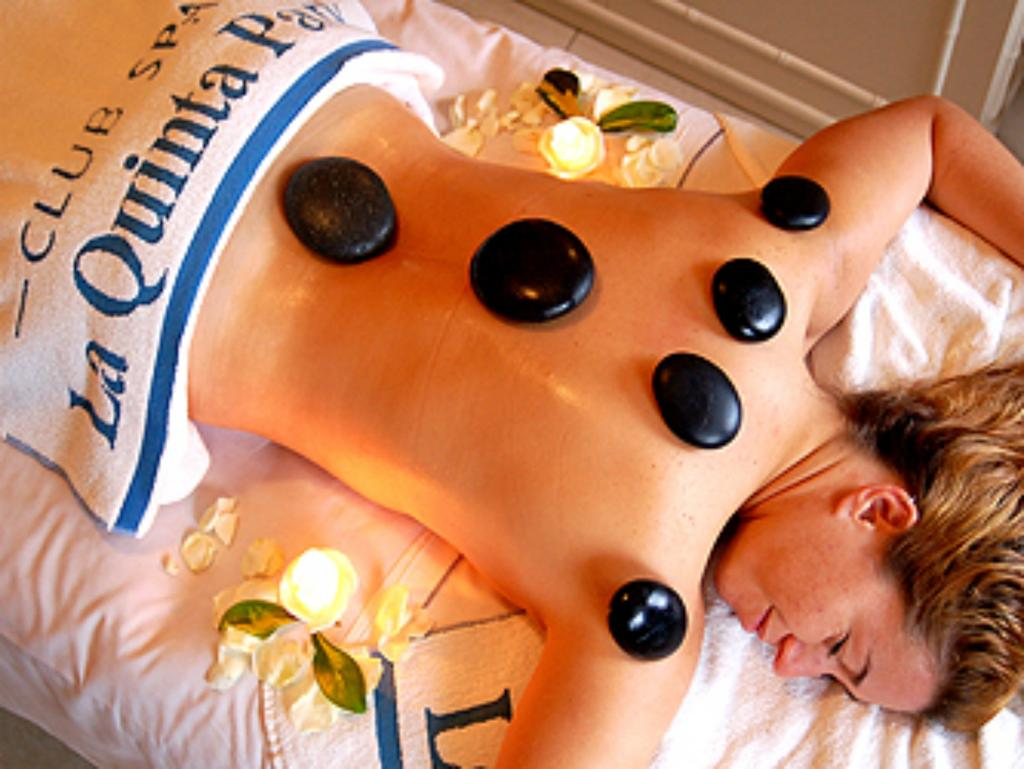face: (718, 556, 952, 712)
